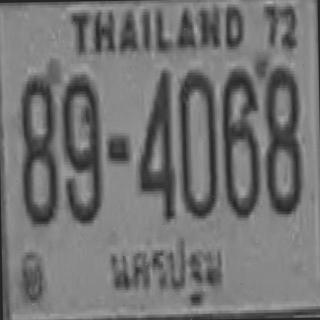N00: (177, 68, 217, 217)
N04: (136, 67, 174, 219)
N06: (220, 66, 258, 215)
N08: (18, 68, 58, 223), (262, 65, 301, 212)
N09: (61, 71, 100, 221)
P28: (106, 232, 227, 304)
